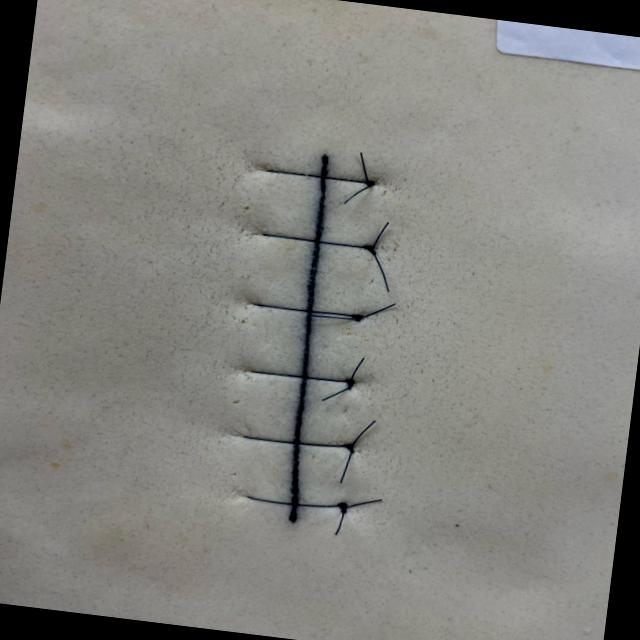knot: (360, 243, 379, 257), (334, 500, 350, 515), (340, 441, 357, 455), (348, 312, 367, 324), (342, 377, 357, 391), (363, 178, 377, 189)
leftover: (370, 250, 390, 293), (349, 419, 376, 448), (357, 301, 396, 319), (369, 220, 389, 250), (342, 183, 370, 204), (319, 384, 352, 401), (338, 449, 353, 484), (341, 498, 383, 510), (348, 356, 365, 382), (309, 313, 359, 321), (358, 150, 369, 183), (333, 509, 345, 536)
stitch: (260, 232, 373, 249), (250, 302, 360, 318), (264, 169, 372, 184), (242, 494, 345, 508), (248, 369, 352, 382), (241, 435, 352, 447)
wound: (290, 154, 327, 523)
